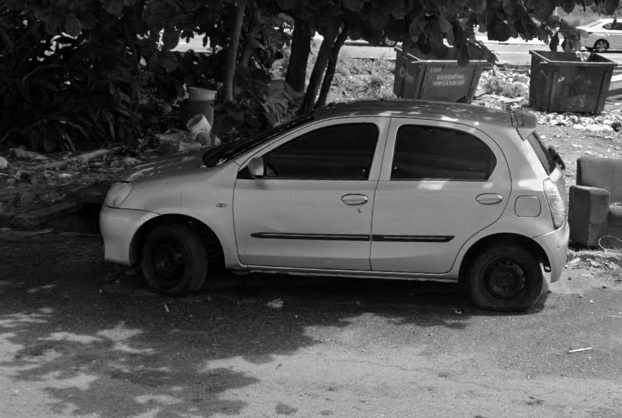car: (98, 97, 569, 315)
